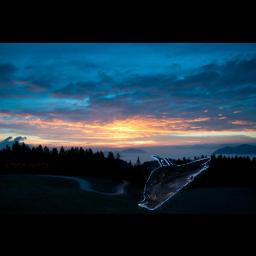Crow: (137, 155, 211, 210)
